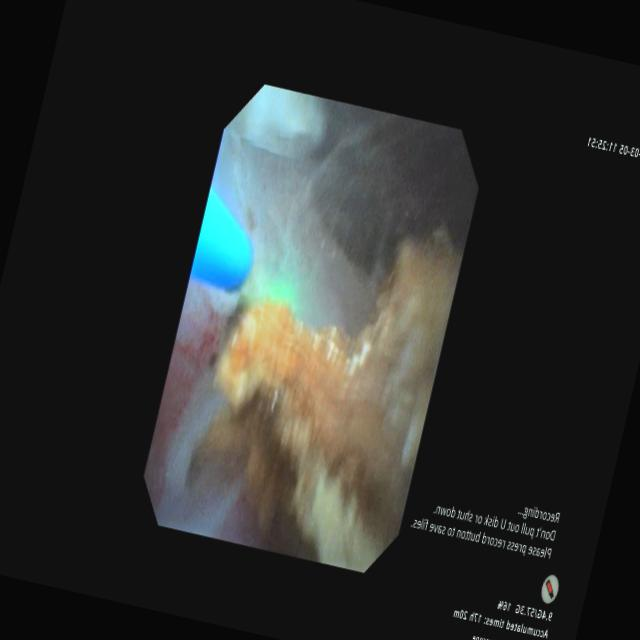laser_dot: (265, 280, 297, 305)
stone-new: (187, 226, 463, 571)
